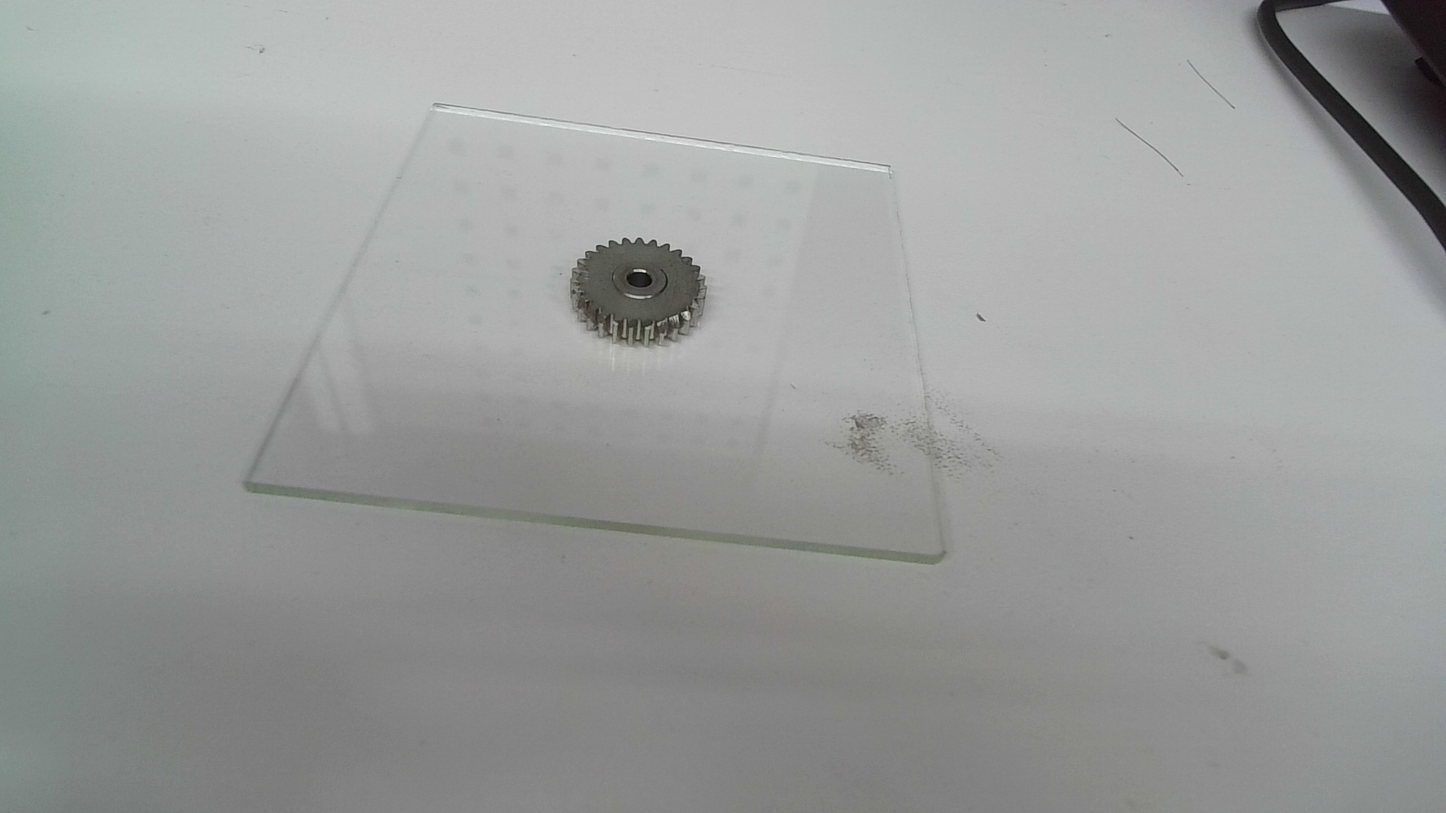gear: (567, 235, 709, 346)
